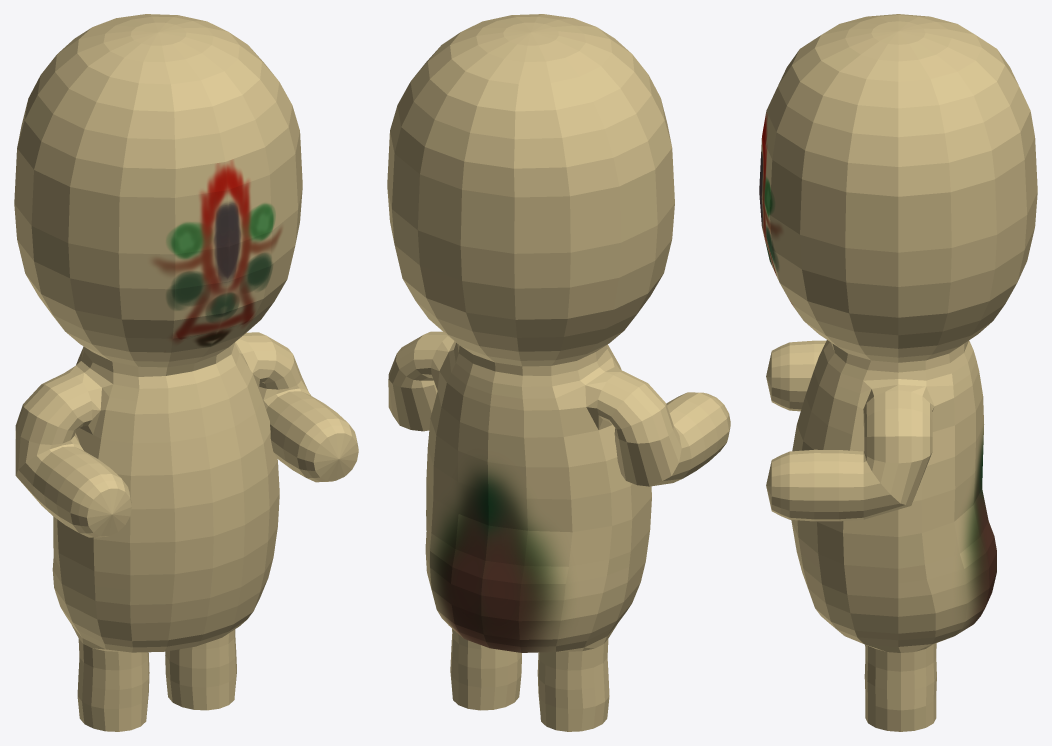
Rendered from Inami-Chan_model.fbx.
The picture shows the model from 3 angles, left to right: view 1: azimuth 30°, elevation 25°; view 2: azimuth 150°, elevation 25°; view 3: azimuth 270°, elevation 25°; orthographic projection.
Parts seen in each view (by area): view 1: Sphere.001; view 2: Sphere.001; view 3: Sphere.001.
Boxes of the visible parts, box(x1,y1,x2,y2) form: Sphere.001: box(14, 14, 358, 731); Sphere.001: box(387, 14, 730, 731); Sphere.001: box(759, 14, 1037, 731).
Size of the model in its own units: 93.81 by 209 by 79.2.
